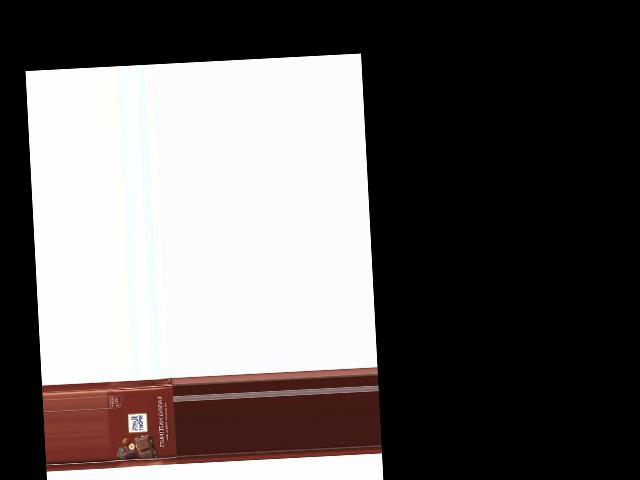chocolate: (105, 378, 178, 469)
